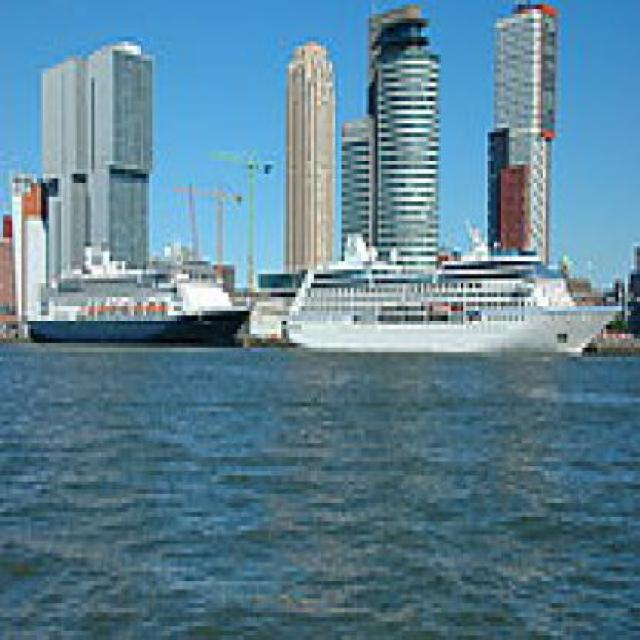cruise: (245, 225, 636, 371), (22, 234, 266, 362)
